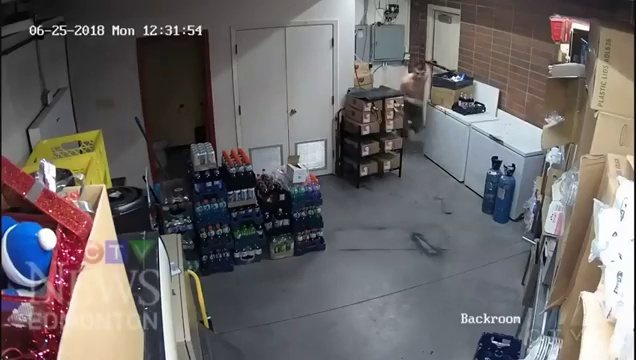face: (413, 67, 425, 80)
